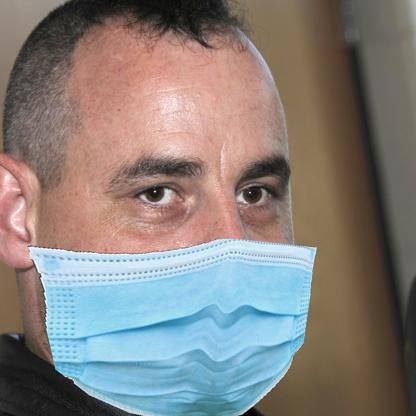mask: (28, 243, 314, 416)
